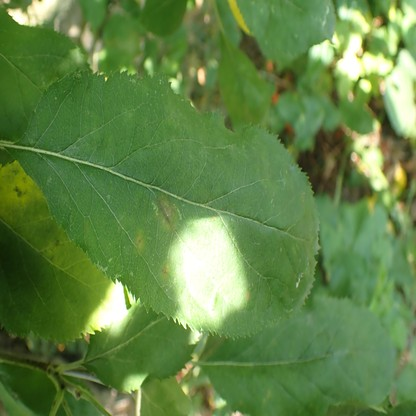scab: (154, 196, 177, 232), (158, 264, 172, 287), (134, 233, 146, 251)
